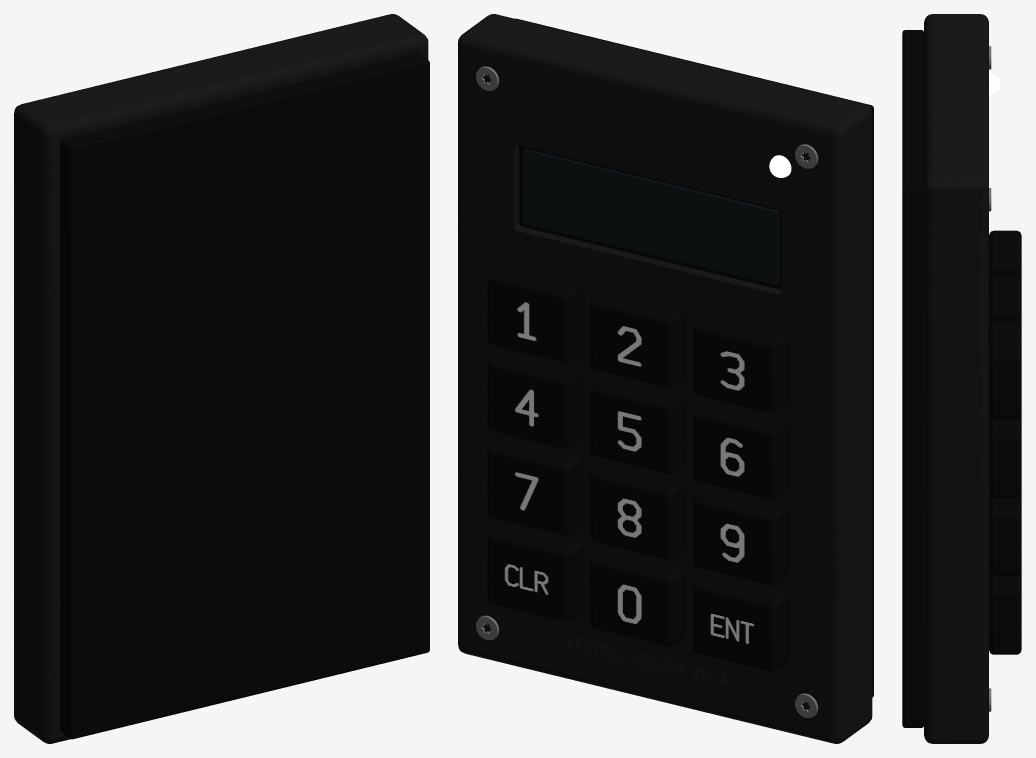
The model's file is keypad_4.glb.
The picture shows the model from 3 angles, left to right: view 1: azimuth 30°, elevation 25°; view 2: azimuth 150°, elevation 25°; view 3: azimuth 270°, elevation 25°; orthographic projection. The views are drawn at different scales.
Visible parts, largest first — view 1: body; view 2: body, screen, btn_0, btn_clear, btn_2, btn_5, btn_9, btn_7, btn_enter, btn_1, btn_4, btn_6 (+2 smaller); view 3: body, btn_1, btn_7, btn_4, btn_clear, btn_2, btn_3.
Boxes of the visible parts, bbox=[...] form: body: bbox=[14, 14, 429, 743]; body: bbox=[458, 14, 873, 743]; screen: bbox=[522, 148, 779, 285]; btn_0: bbox=[590, 549, 686, 646]; btn_clear: bbox=[487, 524, 583, 621]; btn_2: bbox=[590, 290, 686, 387]; btn_5: bbox=[590, 376, 686, 474]; btn_9: bbox=[693, 488, 789, 585]; btn_7: bbox=[487, 437, 583, 535]; btn_enter: bbox=[693, 574, 789, 671]; btn_1: bbox=[487, 265, 583, 362]; btn_4: bbox=[487, 351, 583, 449]; btn_6: bbox=[693, 401, 789, 499]; body: bbox=[902, 14, 991, 743]; btn_1: bbox=[989, 322, 1021, 419]; btn_7: bbox=[989, 493, 1021, 576]; btn_4: bbox=[989, 415, 1021, 497]; btn_clear: bbox=[989, 572, 1021, 654]; btn_2: bbox=[989, 276, 1021, 326]; btn_3: bbox=[989, 230, 1021, 280].
Size of what is drawn, in the model's own units: 0.075 by 0.115 by 0.022.
Materials: 5 (2 with a texture image).
